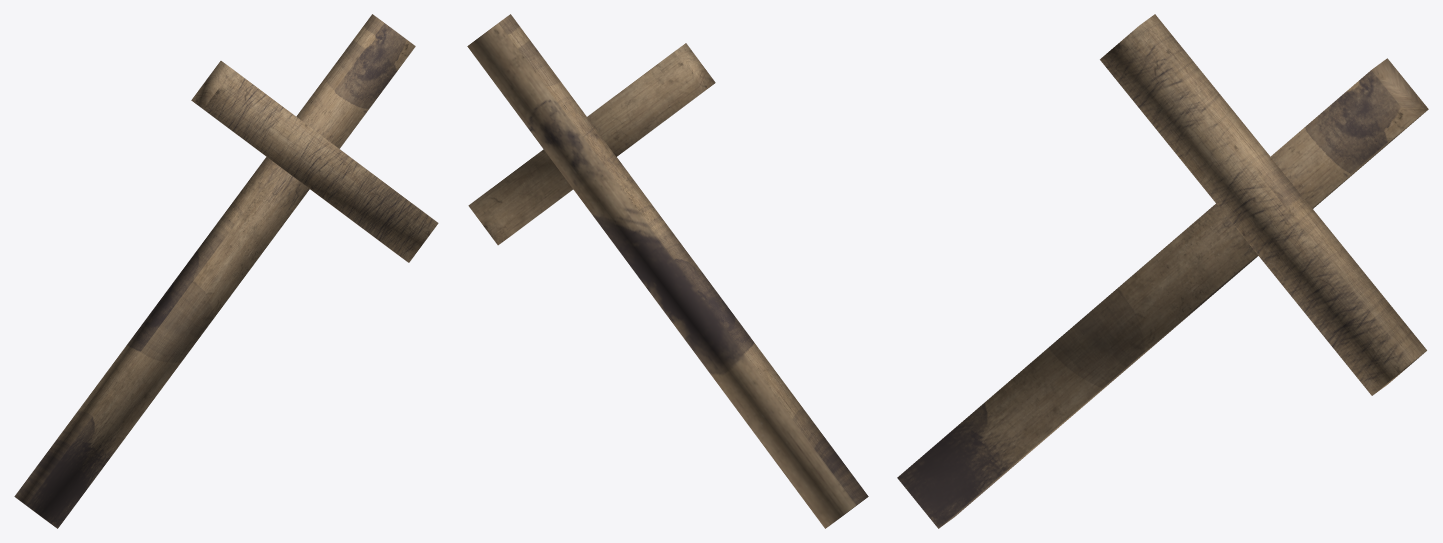
Rendered from PlanksCrossed.fbx.
The picture shows the model from 3 angles, left to right: view 1: azimuth 30°, elevation 25°; view 2: azimuth 150°, elevation 25°; view 3: azimuth 330°, elevation 25°; orthographic projection. The views are drawn at different scales.
Visible parts, largest first — view 1: PlanksCrossed; view 2: PlanksCrossed; view 3: PlanksCrossed.
Boxes of the visible parts, x1,y1,x2,y2 form: PlanksCrossed: [14, 14, 438, 528]; PlanksCrossed: [467, 14, 868, 528]; PlanksCrossed: [897, 14, 1428, 528].
Size of the model in its own units: 2.1 by 2.15 by 0.2194.
1 material, 1 textured.
